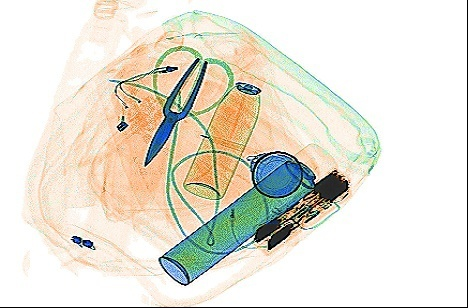pressure: (156, 140, 339, 285), (179, 67, 265, 200)
scissors: (142, 44, 234, 166)
